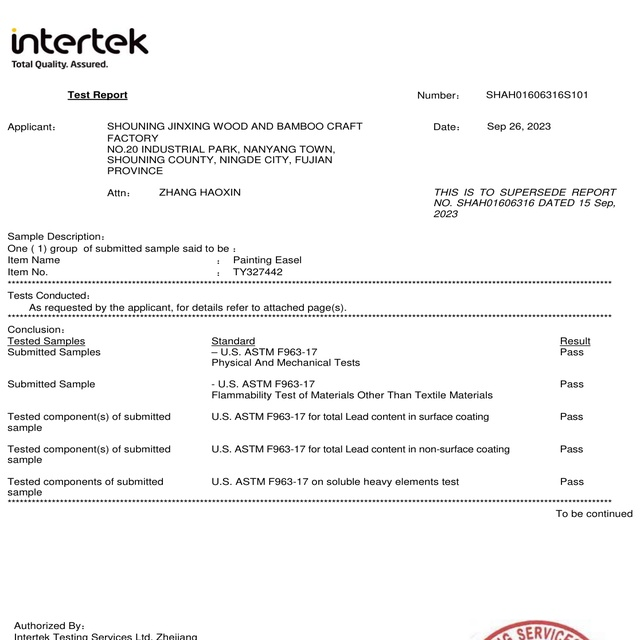intertek: (0, 20, 156, 72)
